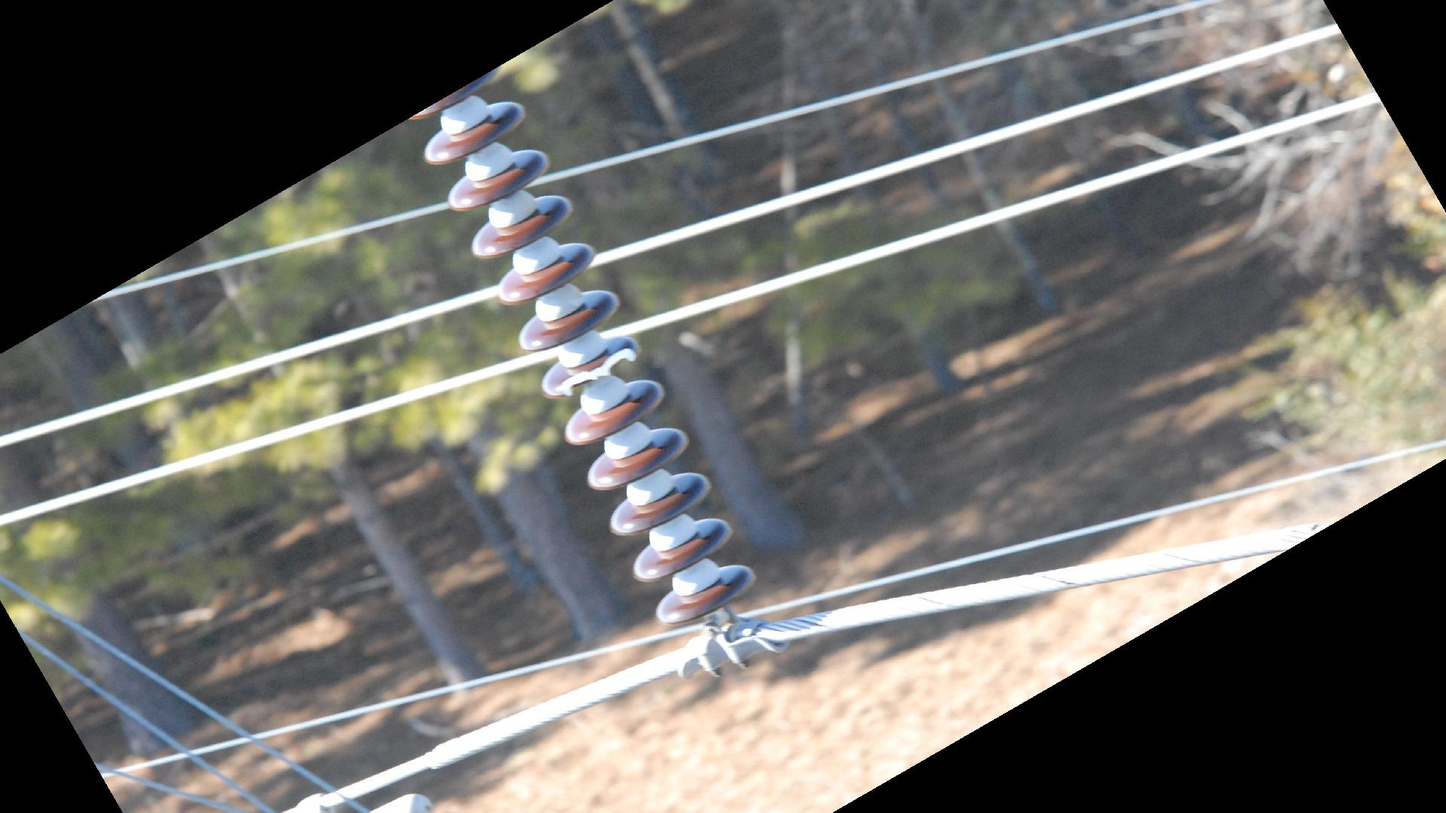insulator: (401, 62, 762, 633)
insulator_breakage: (554, 344, 639, 402)
